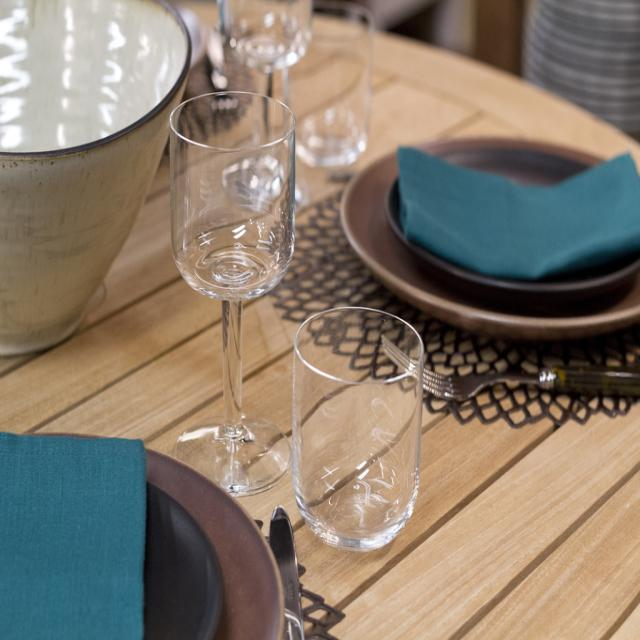non-organic waste: (330, 77, 640, 396), (0, 394, 283, 640), (354, 140, 640, 294)
